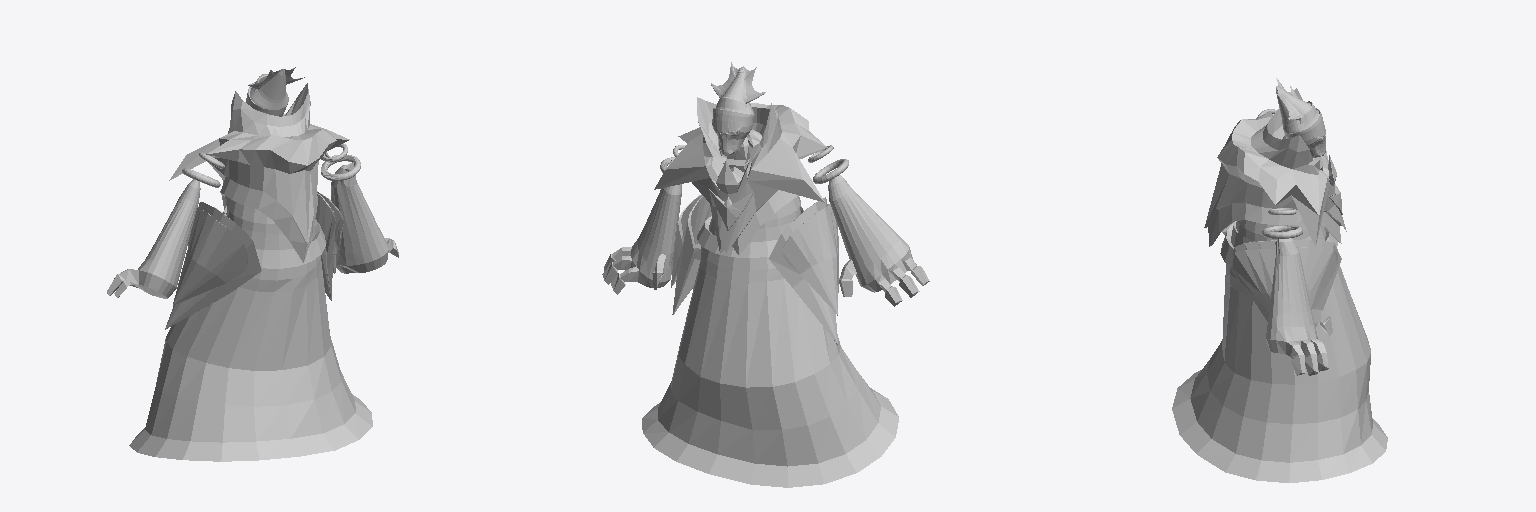
File: RATH_IDLE_24FPS.0096.obj
The picture shows the model from 3 angles: view 1: azimuth 30°, elevation 25°; view 2: azimuth 150°, elevation 25°; view 3: azimuth 270°, elevation 25°; orthographic projection.
Visible parts, largest first — view 1: pasted__pasted__pTorus3; view 2: pasted__pasted__pTorus3; view 3: pasted__pasted__pTorus3.
Boxes of the visible parts, x1=… form: pasted__pasted__pTorus3: x1=107, y1=67, x2=398, y2=461; pasted__pasted__pTorus3: x1=602, y1=62, x2=929, y2=487; pasted__pasted__pTorus3: x1=1172, y1=78, x2=1387, y2=482.
Size of the model in its own units: 154 by 177 by 93.71.